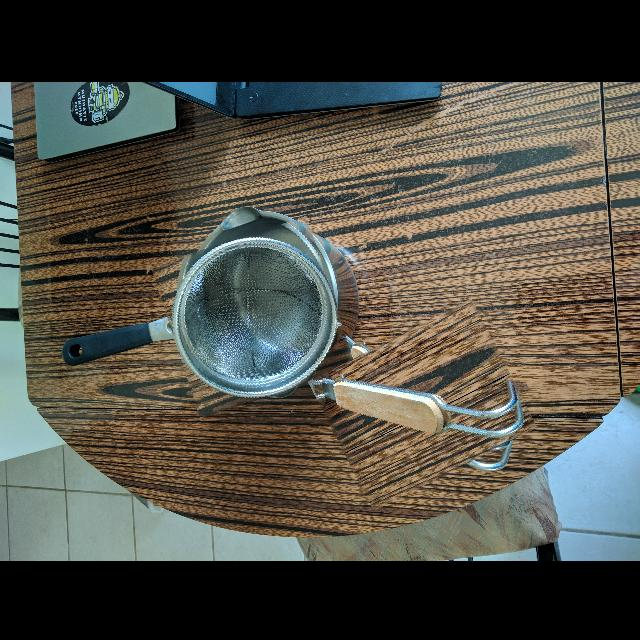Handle: (316, 375, 535, 442)
Strainer: (162, 226, 346, 407)
